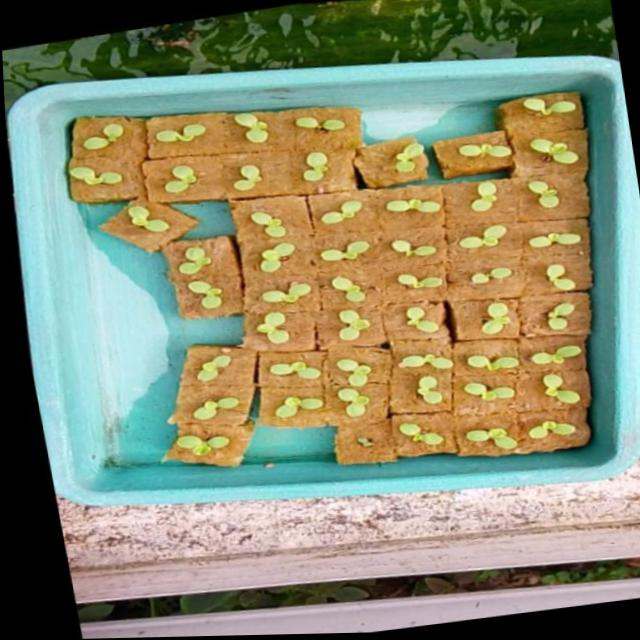Baby: (146, 203, 204, 243), (93, 121, 156, 154), (536, 175, 600, 206), (298, 358, 351, 388), (267, 243, 320, 273), (112, 156, 166, 183), (285, 278, 335, 307), (489, 267, 550, 290), (581, 302, 623, 335), (168, 125, 228, 148), (430, 305, 475, 335), (198, 242, 235, 276), (562, 346, 622, 366), (487, 224, 536, 248), (203, 437, 257, 458), (284, 312, 318, 345), (580, 376, 617, 406), (501, 432, 553, 453), (432, 426, 478, 449), (221, 398, 267, 421), (514, 303, 546, 336), (274, 209, 310, 238), (368, 309, 400, 341), (257, 113, 291, 143), (367, 360, 402, 388), (347, 241, 396, 261), (416, 238, 467, 257), (368, 388, 400, 418), (358, 276, 393, 303), (500, 356, 554, 373), (564, 424, 612, 443), (429, 355, 486, 371), (225, 356, 258, 383), (305, 403, 351, 422), (191, 166, 222, 194), (559, 230, 612, 246), (499, 180, 526, 210), (577, 264, 608, 289), (450, 378, 476, 407), (328, 151, 353, 181), (213, 289, 247, 311), (258, 164, 285, 191), (425, 274, 471, 289), (355, 200, 385, 223), (508, 389, 548, 403)
